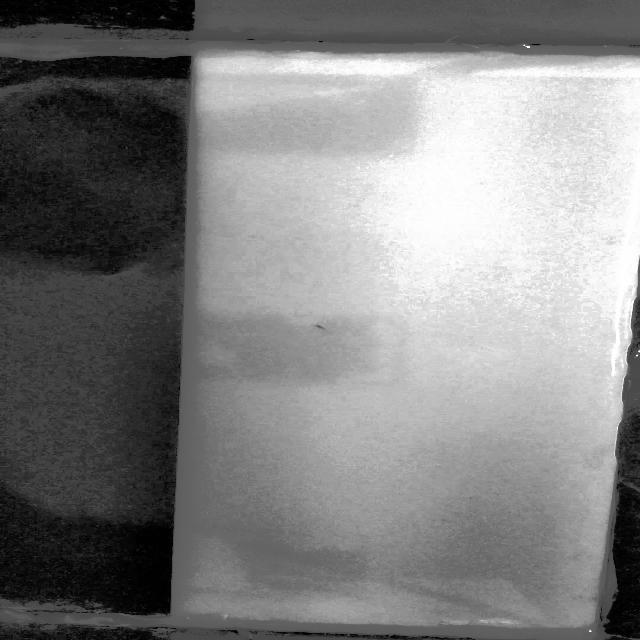shrimp: (312, 322, 329, 331)
